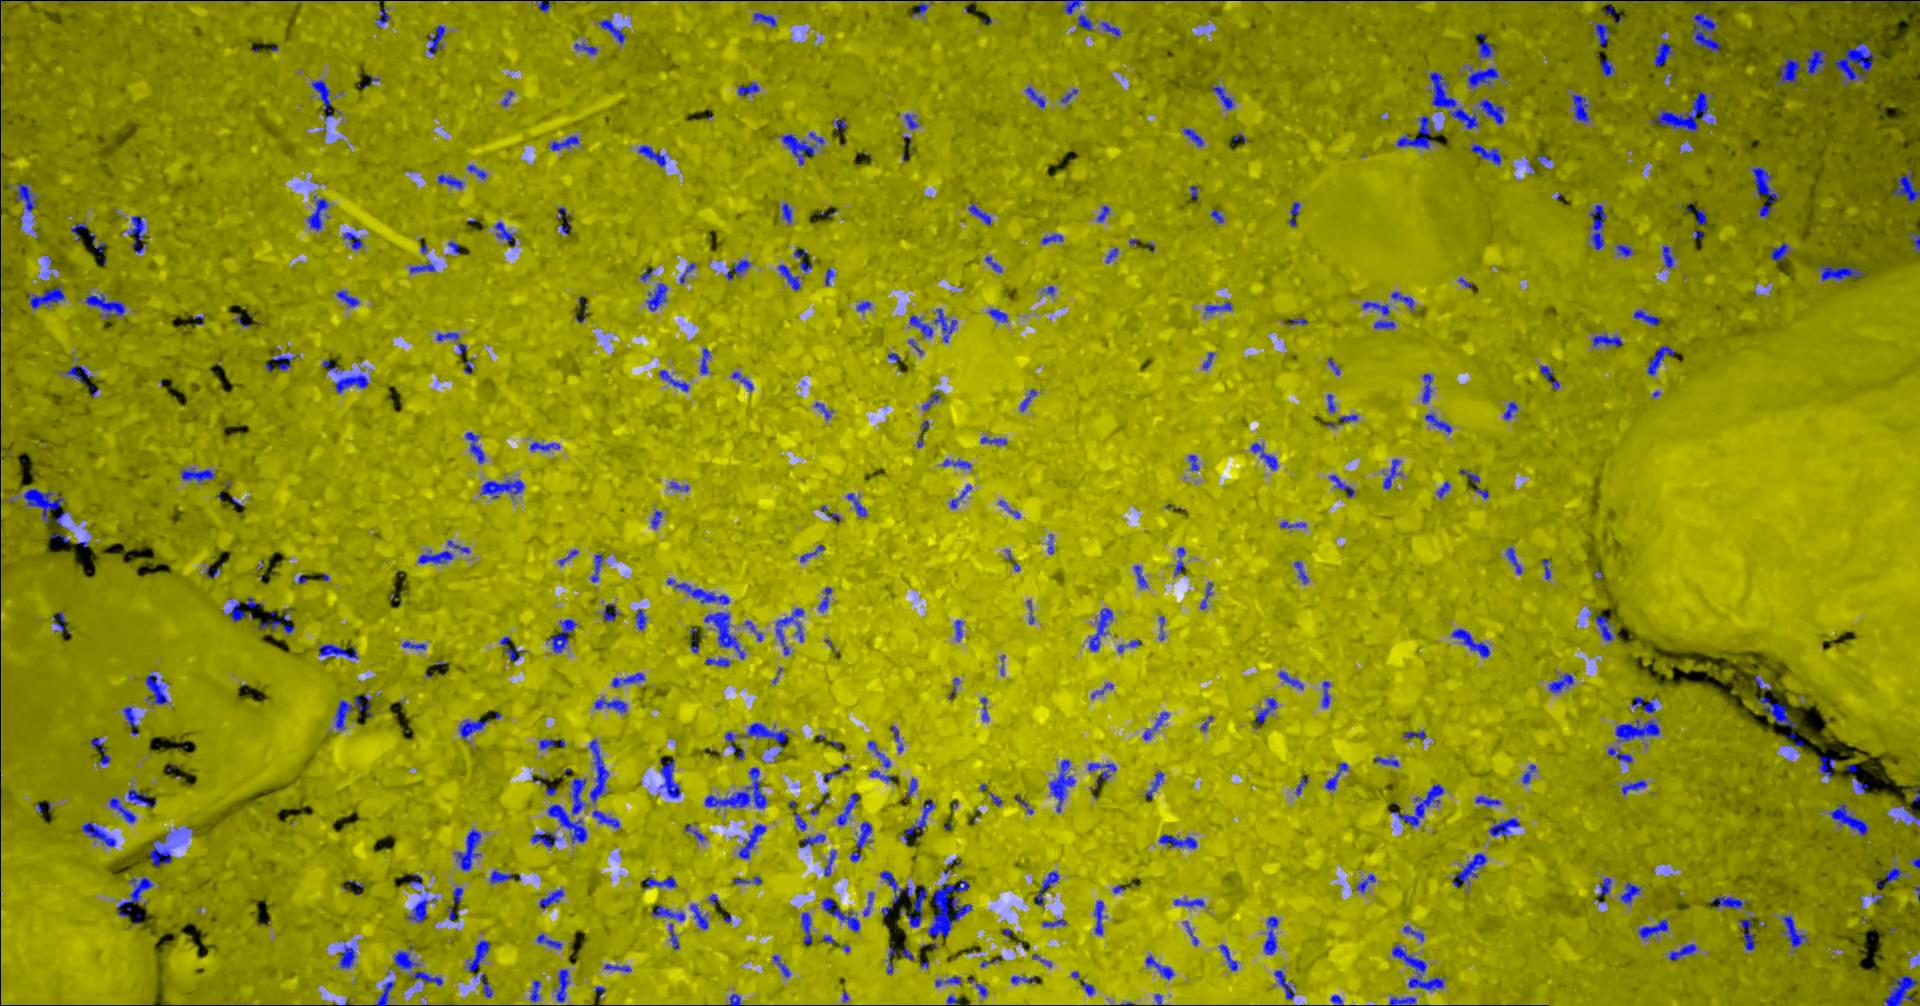ant: (1429, 71, 1479, 128), (703, 767, 766, 808), (1650, 91, 1710, 131), (1390, 944, 1443, 989), (1390, 782, 1443, 826), (1777, 47, 1826, 86), (392, 945, 442, 984), (703, 612, 744, 659), (1832, 42, 1876, 83), (665, 578, 729, 605), (1396, 116, 1441, 149), (546, 804, 585, 842), (116, 876, 152, 916), (23, 488, 63, 523), (781, 132, 824, 165), (1751, 166, 1779, 217), (903, 798, 935, 842), (1048, 760, 1074, 812), (334, 694, 372, 729), (775, 607, 803, 655), (822, 897, 858, 932), (588, 738, 608, 801), (1829, 803, 1868, 835), (1757, 696, 1796, 728), (1451, 852, 1486, 887), (1450, 627, 1490, 657), (1691, 11, 1719, 52), (743, 721, 786, 747), (879, 870, 912, 903), (1884, 974, 1919, 1005), (311, 79, 337, 119), (84, 293, 124, 319), (1090, 607, 1112, 652), (456, 828, 480, 870), (546, 619, 577, 652), (121, 215, 146, 253), (1891, 168, 1919, 202), (738, 823, 766, 857), (1615, 719, 1658, 741), (658, 757, 681, 796), (27, 285, 63, 309), (850, 821, 871, 861), (479, 479, 524, 498), (81, 821, 116, 846), (1459, 469, 1488, 498), (149, 831, 171, 868), (1782, 915, 1807, 948), (1034, 870, 1058, 904), (1142, 711, 1170, 741), (907, 885, 926, 927), (836, 793, 860, 826), (1589, 205, 1606, 249), (933, 307, 956, 342), (1250, 442, 1277, 470), (1647, 345, 1674, 375), (1087, 762, 1116, 789), (406, 897, 436, 922), (1144, 954, 1173, 979), (143, 674, 168, 705), (1252, 697, 1276, 728), (466, 940, 489, 972), (108, 796, 135, 823), (597, 19, 625, 44), (306, 198, 328, 230), (1324, 762, 1349, 790), (1465, 66, 1498, 86), (463, 431, 484, 464), (1272, 969, 1295, 998), (1820, 264, 1863, 279), (658, 370, 688, 391), (1653, 32, 1672, 66), (334, 373, 368, 392), (1478, 99, 1503, 124), (637, 144, 665, 166), (867, 741, 890, 768), (458, 718, 488, 739), (1470, 144, 1501, 164), (1638, 920, 1669, 940), (499, 636, 524, 661), (645, 282, 667, 310), (89, 737, 110, 765), (317, 643, 357, 658), (1738, 915, 1755, 950), (1210, 84, 1233, 109), (777, 264, 800, 290), (1382, 459, 1401, 489), (1328, 474, 1354, 497), (1488, 817, 1519, 836), (1158, 833, 1196, 848), (15, 183, 36, 211), (1423, 413, 1451, 433), (570, 777, 585, 814), (724, 730, 743, 760), (949, 484, 971, 508), (844, 492, 866, 517), (651, 904, 684, 921), (822, 763, 850, 782), (1145, 771, 1164, 799), (127, 788, 155, 807), (1263, 916, 1277, 954), (610, 672, 644, 687), (494, 221, 516, 245), (538, 888, 563, 909), (725, 259, 750, 279), (65, 365, 91, 384), (1594, 614, 1613, 640), (592, 809, 618, 828), (1876, 868, 1902, 887), (1571, 94, 1589, 122), (909, 315, 932, 337), (1539, 365, 1559, 389), (1277, 669, 1303, 688), (1548, 673, 1573, 692), (1709, 895, 1747, 908), (428, 25, 444, 55), (180, 467, 215, 481), (1219, 944, 1237, 970), (1669, 942, 1695, 960), (417, 550, 453, 563), (1620, 882, 1641, 904), (593, 699, 626, 713), (530, 831, 557, 847), (555, 969, 569, 1002), (1477, 32, 1495, 57), (799, 544, 824, 561), (690, 903, 707, 929), (549, 135, 578, 150), (122, 706, 137, 735), (1505, 547, 1521, 574), (1023, 86, 1045, 107), (259, 610, 279, 631), (968, 205, 990, 224), (1390, 291, 1413, 310), (997, 499, 1020, 518), (1018, 387, 1036, 412), (474, 973, 491, 997), (376, 981, 394, 1005), (1633, 309, 1658, 325), (1324, 414, 1357, 427), (555, 207, 570, 234), (1363, 300, 1389, 315), (772, 954, 790, 977), (489, 870, 521, 883), (1630, 696, 1655, 713), (1608, 747, 1632, 763), (339, 944, 356, 968), (641, 876, 676, 888), (1095, 901, 1106, 935), (1591, 333, 1622, 345), (731, 371, 752, 390), (1355, 873, 1375, 892), (1182, 920, 1197, 945), (1769, 243, 1790, 260), (245, 597, 263, 619), (744, 620, 762, 641), (1594, 22, 1610, 44), (337, 290, 359, 306), (1818, 754, 1835, 777), (799, 833, 825, 847), (536, 934, 563, 948), (1603, 3, 1622, 22), (800, 912, 811, 944), (968, 977, 987, 996), (1182, 128, 1203, 146), (342, 231, 362, 249), (272, 353, 293, 370), (1402, 925, 1423, 941), (437, 174, 462, 188), (1199, 580, 1211, 608), (817, 587, 830, 612), (823, 848, 836, 876), (921, 392, 940, 410), (752, 11, 776, 25), (1622, 780, 1646, 794), (684, 824, 705, 841), (1421, 373, 1432, 403), (679, 262, 695, 283), (52, 611, 67, 633), (1288, 201, 1300, 226), (446, 539, 469, 553), (590, 553, 602, 580), (869, 768, 891, 782), (814, 401, 832, 419), (70, 222, 86, 241), (466, 164, 486, 179), (987, 307, 1007, 323), (229, 601, 244, 621), (573, 42, 597, 55), (282, 608, 295, 633), (1116, 639, 1140, 652), (1204, 301, 1230, 312), (698, 347, 710, 373), (890, 725, 902, 752), (1098, 22, 1120, 36), (321, 359, 343, 373), (1294, 561, 1308, 583), (530, 441, 559, 451), (737, 83, 759, 95), (409, 262, 434, 273), (668, 923, 679, 949), (1063, 0, 1083, 14), (375, 6, 389, 27), (1173, 547, 1183, 575), (1783, 732, 1803, 746), (1476, 795, 1500, 807), (1133, 565, 1145, 587), (1295, 774, 1308, 795), (984, 255, 1001, 272), (1077, 13, 1092, 30), (602, 603, 617, 621), (1173, 898, 1204, 907), (935, 976, 961, 986), (1521, 763, 1535, 782), (792, 812, 806, 831), (1597, 876, 1611, 895), (942, 459, 971, 467), (862, 890, 872, 916), (1503, 401, 1517, 419), (1321, 680, 1330, 708), (1905, 807, 1919, 824), (886, 946, 895, 974), (1374, 756, 1398, 766), (703, 657, 730, 666), (832, 118, 847, 133), (1907, 231, 1919, 251), (1041, 232, 1062, 244), (635, 608, 646, 629), (903, 113, 917, 130), (1436, 481, 1450, 498), (910, 3, 928, 15), (1600, 58, 1613, 76), (980, 436, 1006, 445), (1389, 996, 1415, 1005), (781, 202, 791, 224), (1662, 245, 1672, 267), (530, 981, 540, 1002), (535, 0, 554, 11), (401, 640, 425, 649), (733, 876, 761, 884), (603, 963, 631, 970), (1096, 205, 1109, 221), (1105, 246, 1117, 263), (669, 481, 690, 492), (436, 332, 458, 340), (1203, 351, 1214, 368), (650, 511, 662, 528), (1279, 520, 1305, 527), (1402, 730, 1425, 739), (1081, 981, 1095, 995), (1615, 244, 1630, 257), (905, 777, 916, 796), (1010, 976, 1035, 983), (1542, 558, 1550, 579), (954, 619, 963, 640), (1187, 453, 1199, 470), (452, 887, 463, 903), (980, 697, 988, 721), (1210, 210, 1223, 224), (855, 300, 870, 311), (1373, 320, 1396, 328), (538, 738, 554, 749), (1326, 392, 1335, 412), (1695, 207, 1705, 224), (824, 268, 833, 285), (1043, 920, 1065, 926), (729, 993, 740, 1005), (946, 995, 959, 1005), (1850, 0, 1919, 1), (1785, 0, 1843, 1)
